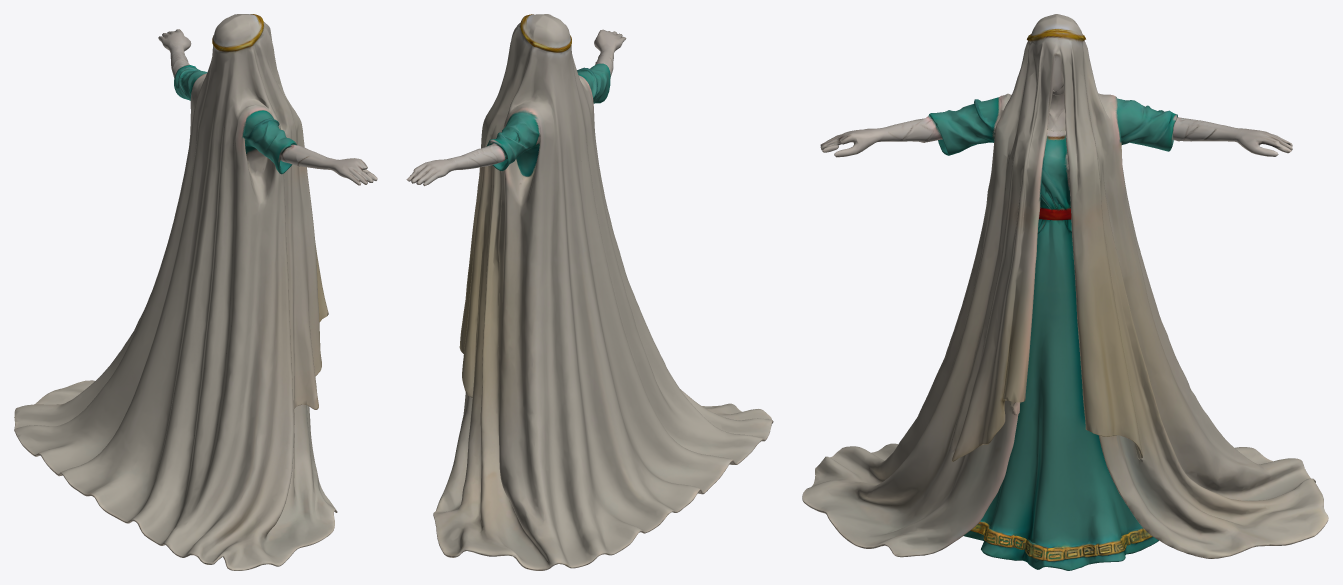
File: veil1.glb
The picture shows the model from 3 angles, left to right: view 1: azimuth 30°, elevation 25°; view 2: azimuth 150°, elevation 25°; view 3: azimuth 270°, elevation 25°; orthographic projection. The views are drawn at different scales.
Parts seen in each view (by area): view 1: tripo_node_7b56952b-e0ca-4448-ab25-82c6fe6b695e; view 2: tripo_node_7b56952b-e0ca-4448-ab25-82c6fe6b695e; view 3: tripo_node_7b56952b-e0ca-4448-ab25-82c6fe6b695e.
Part boxes in pixels (x1,y1,x2,y2): tripo_node_7b56952b-e0ca-4448-ab25-82c6fe6b695e: [14, 14, 377, 570]; tripo_node_7b56952b-e0ca-4448-ab25-82c6fe6b695e: [406, 14, 773, 570]; tripo_node_7b56952b-e0ca-4448-ab25-82c6fe6b695e: [802, 14, 1328, 570].
Bounding box in the file's own units: 0.5083 × 1 × 0.9051.
Materials: 1 (1 with a texture image).
